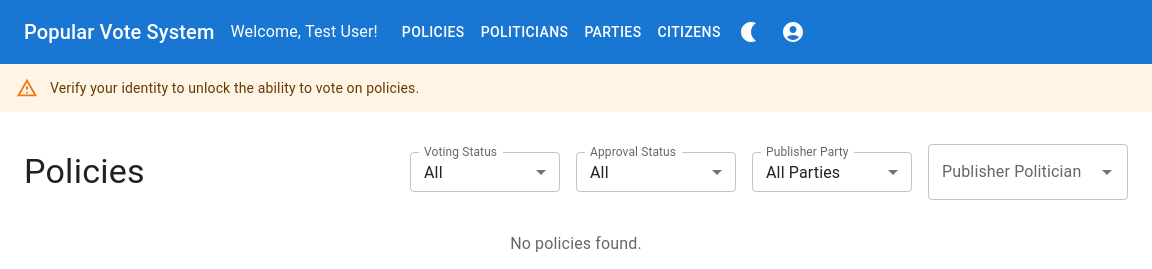
Test: renders Create Party button when write:political-parties permission is present
The width and height of the screenshot is (1152, 269).
Navigate to Parties view
Step 1. Click the button "Parties" → (613, 32), box x1=576 y1=14 x2=650 y2=50
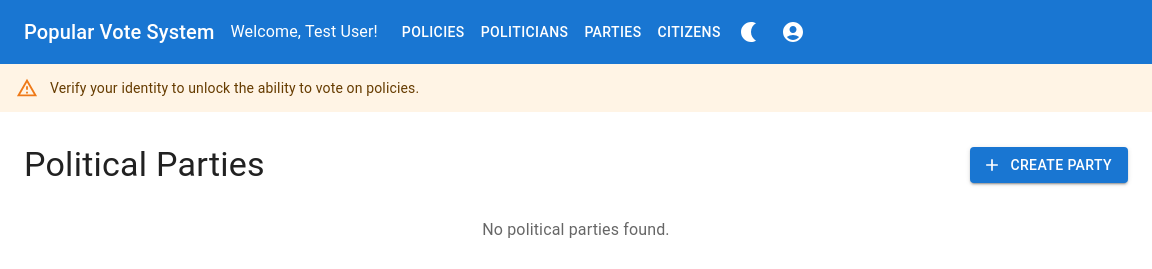
Check: the button "Create Party" is shown, box x1=970 y1=147 x2=1128 y2=183
